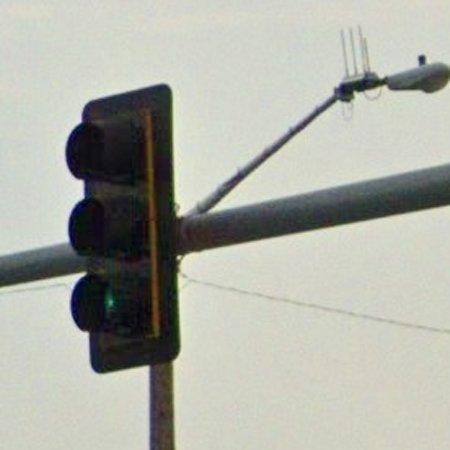traffic lights: (67, 84, 180, 374)
